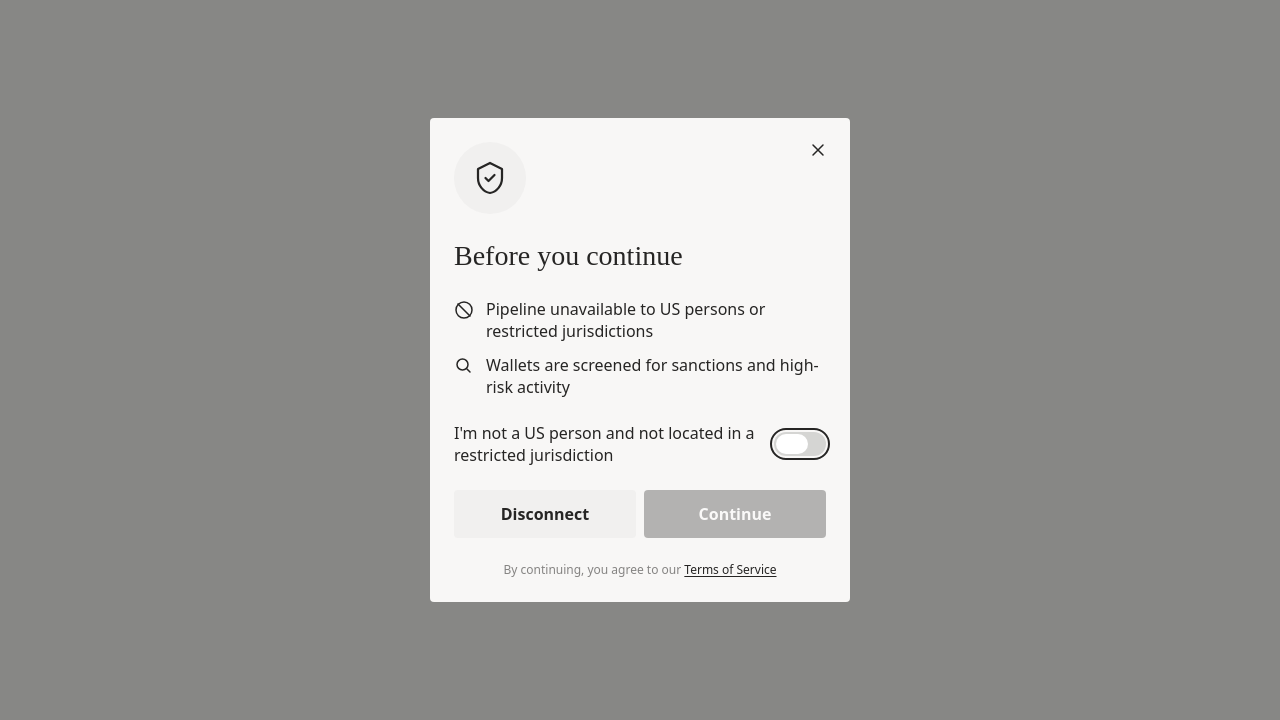
Test case: FirstConnectionModal — toggle interaction › toggling the switch enables Continue
Click the switch: (800, 444) [774, 432, 826, 456]
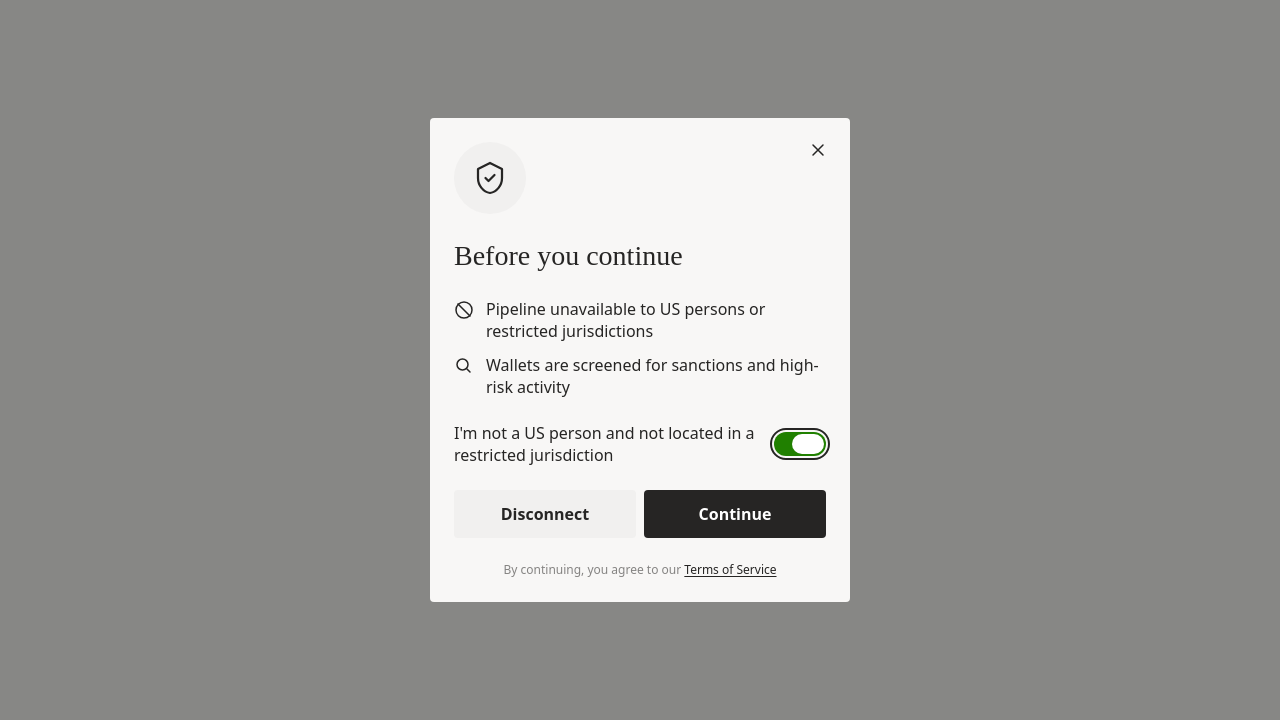
Now the button "Continue" is enabled, box [644, 490, 826, 538]
